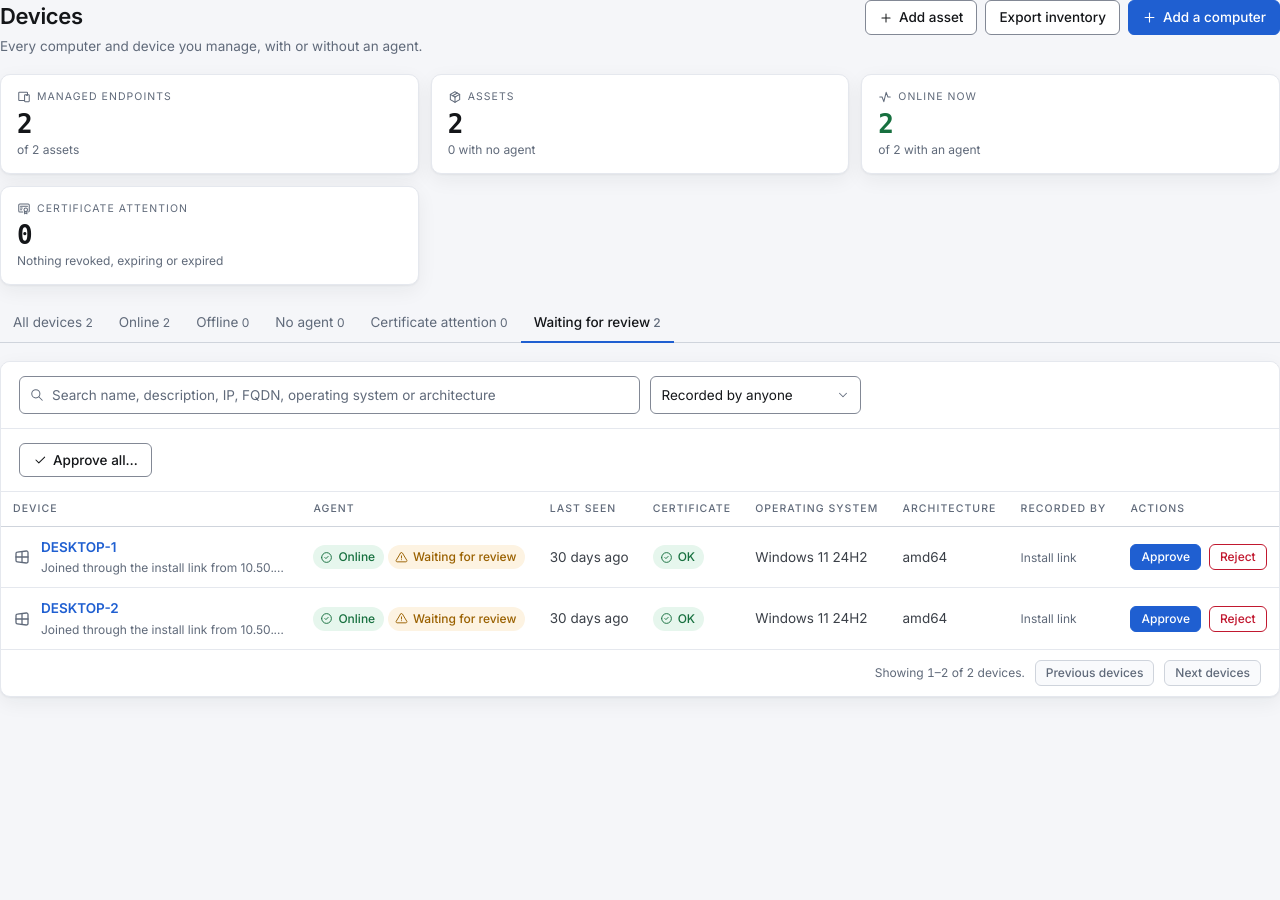
Test: Approve all on Devices › does not refetch the confirmed list on window focus or reconnect, and it never goes stale
Click the button "Approve all…": (85, 460) [19, 443, 152, 477]
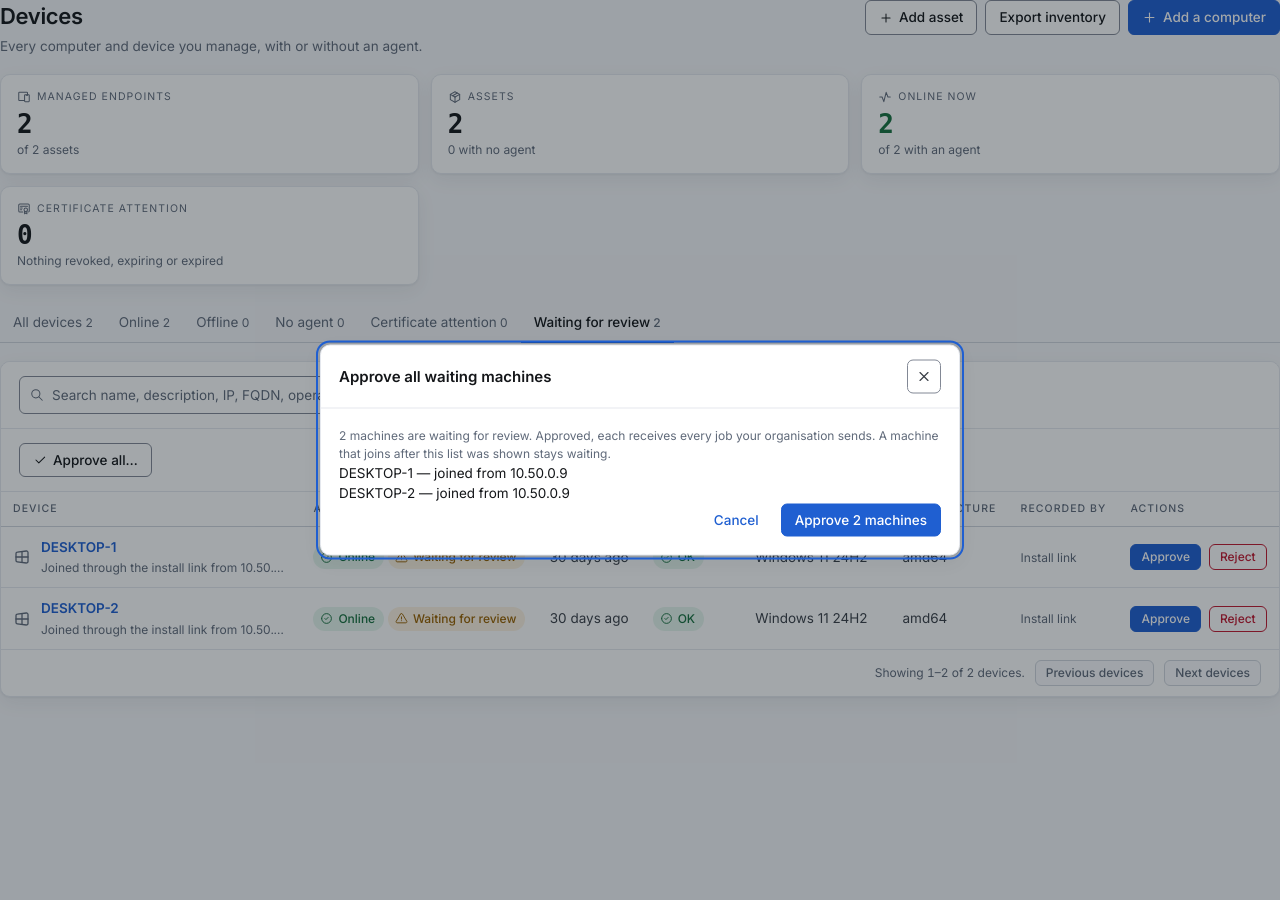
Expected: the list named "Machines to approve" is shown, [339, 464, 570, 501]
